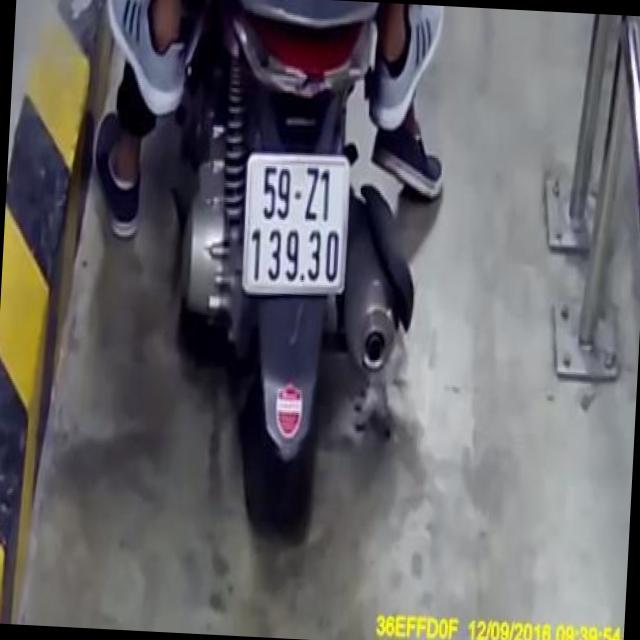LP: (239, 147, 354, 300)
